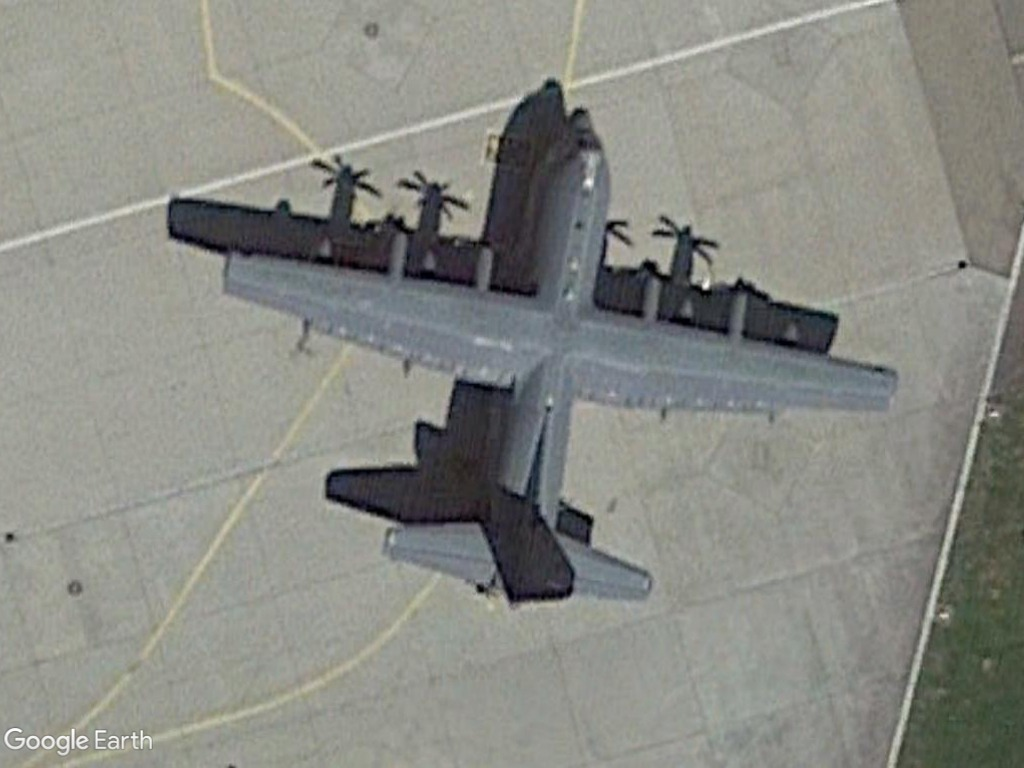propeller: (213, 90, 901, 647)
